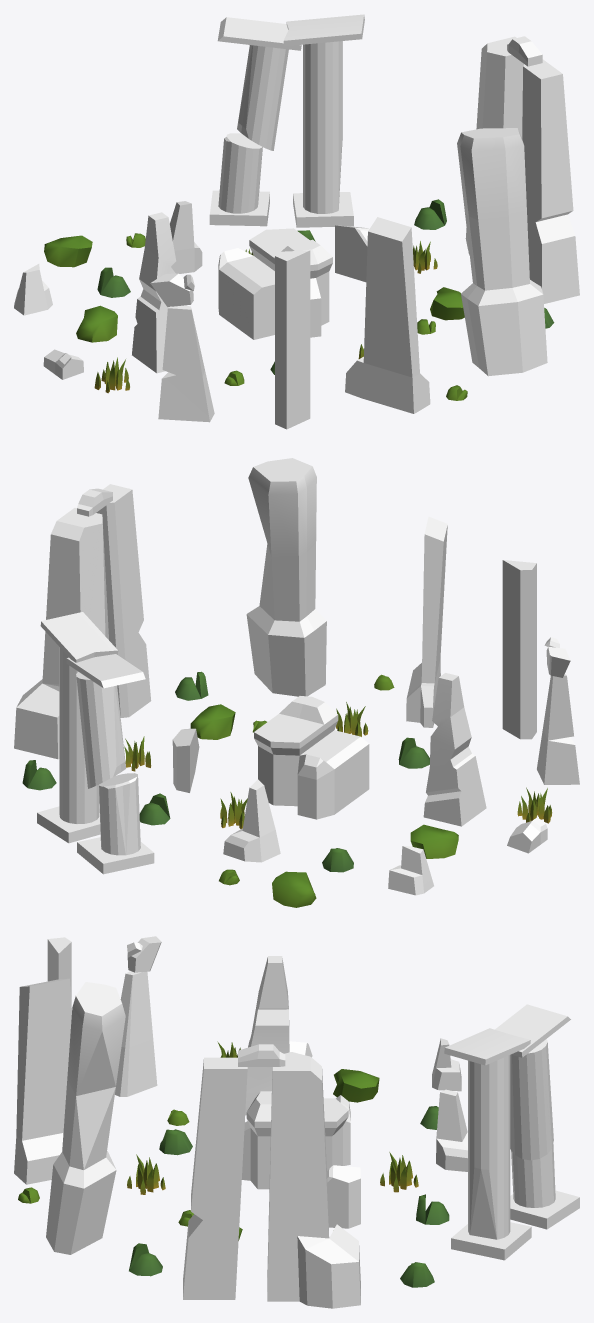
Rendered from SM_Temple01_F.fbx.
3 renders of one model, top to bottom at view 1: azimuth 30°, elevation 25°; view 2: azimuth 150°, elevation 25°; view 3: azimuth 270°, elevation 25°, orthographic. The views are drawn at different scales.
Visible parts, largest first — view 1: Bush03.003; view 2: Bush03.003; view 3: Bush03.003.
Part boxes in pixels (bbox=[...]): Bush03.003: bbox=[14, 14, 579, 429]; Bush03.003: bbox=[14, 458, 579, 907]; Bush03.003: bbox=[14, 936, 579, 1308].
Size of the model in its own units: 642 by 285 by 601.
